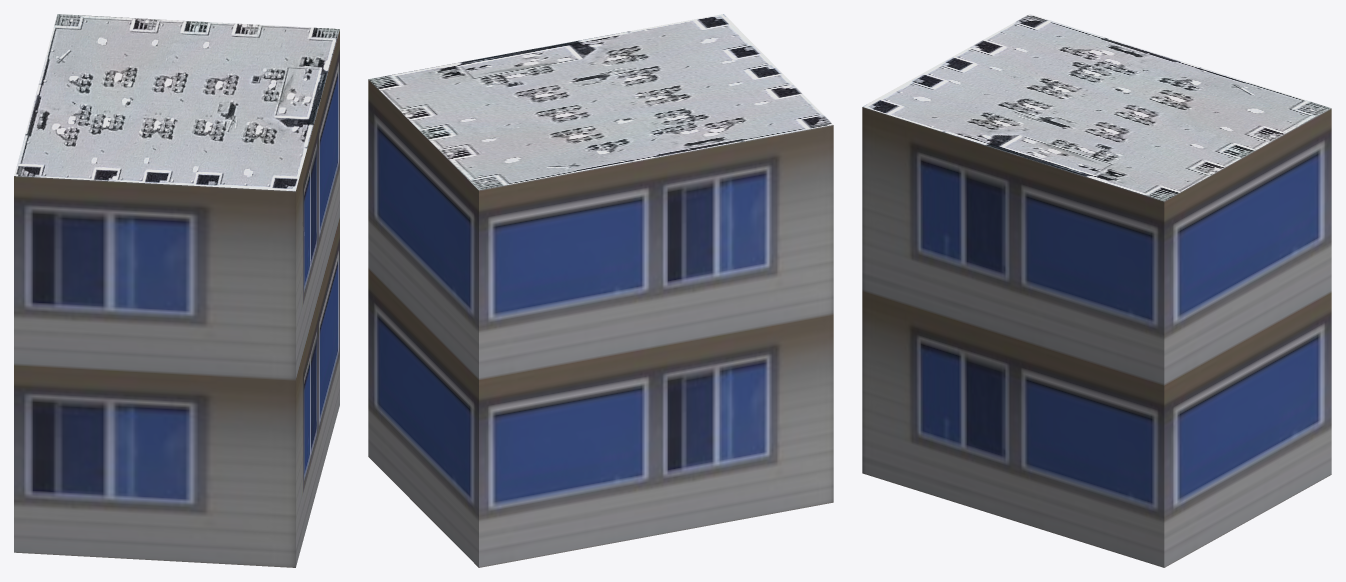
File: ResTex__2972.fbx
3 views of the same model, side by side, from view 1: azimuth 30°, elevation 25°; view 2: azimuth 150°, elevation 25°; view 3: azimuth 270°, elevation 25° (orthographic). The views are drawn at different scales.
Visible parts, largest first — view 1: CityEngineMaterial_23_m, CityEngineMaterial_m; view 2: CityEngineMaterial_23_m, CityEngineMaterial_m; view 3: CityEngineMaterial_23_m, CityEngineMaterial_m.
Part boxes in pixels (<box>): CityEngineMaterial_23_m: <box>14,29,339,567</box>; CityEngineMaterial_m: <box>14,14,339,191</box>; CityEngineMaterial_23_m: <box>368,79,833,567</box>; CityEngineMaterial_m: <box>368,14,832,190</box>; CityEngineMaterial_23_m: <box>862,107,1331,567</box>; CityEngineMaterial_m: <box>862,14,1331,201</box>.
Bounding box in the file's own units: 6.58 × 6 × 6.97.
Materials: 2 (2 with a texture image).
